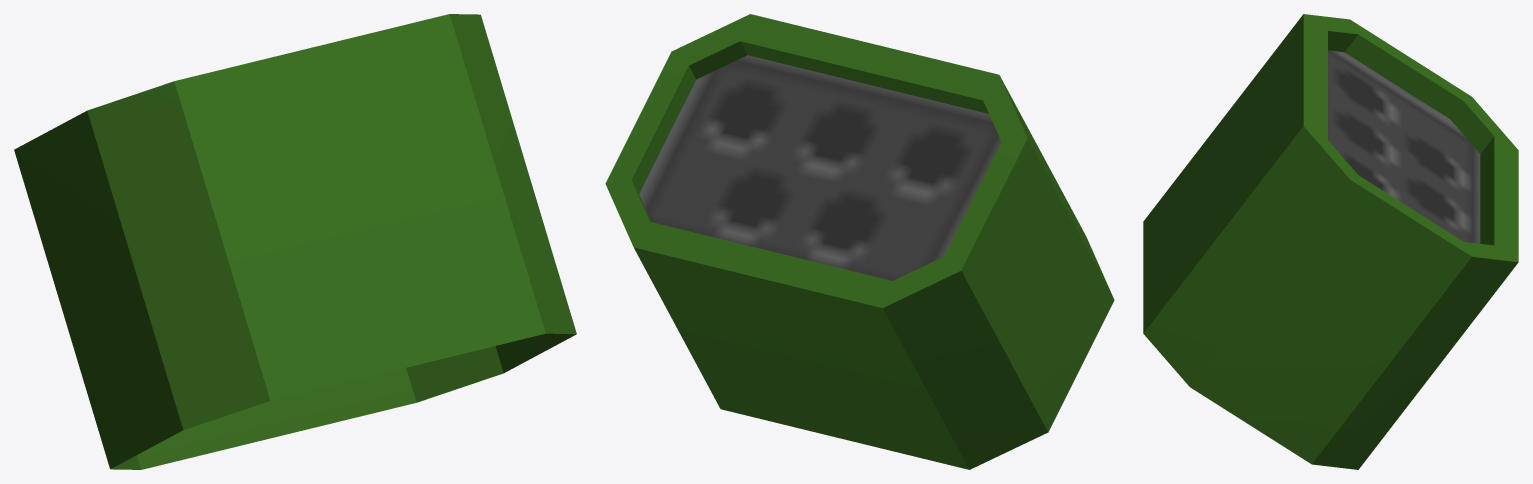
Rendered from RocketLauncher1Enemy1.fbx.
The picture shows the model from 3 angles, left to right: view 1: azimuth 30°, elevation 25°; view 2: azimuth 150°, elevation 25°; view 3: azimuth 270°, elevation 25°; orthographic projection. The views are drawn at different scales.
Visible parts, largest first — view 1: RocketLauncher1Enemy1; view 2: RocketLauncher1Enemy1; view 3: RocketLauncher1Enemy1.
Boxes of the visible parts, <box> form: RocketLauncher1Enemy1: <box>14,14,576,469</box>; RocketLauncher1Enemy1: <box>605,14,1114,469</box>; RocketLauncher1Enemy1: <box>1143,14,1518,469</box>.
Bounding box in the file's own units: 0.4771 × 0.4813 × 0.4825.
